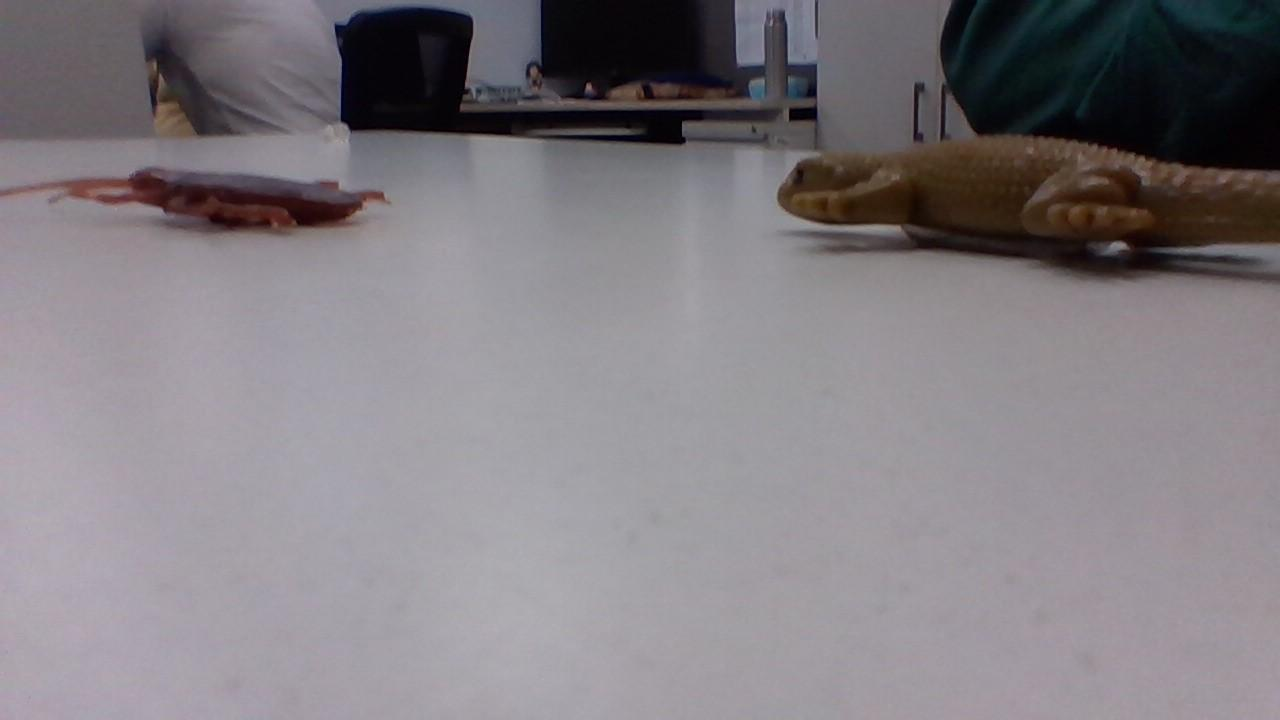cockroach: (45, 140, 391, 235)
lizard: (750, 142, 1280, 254)
